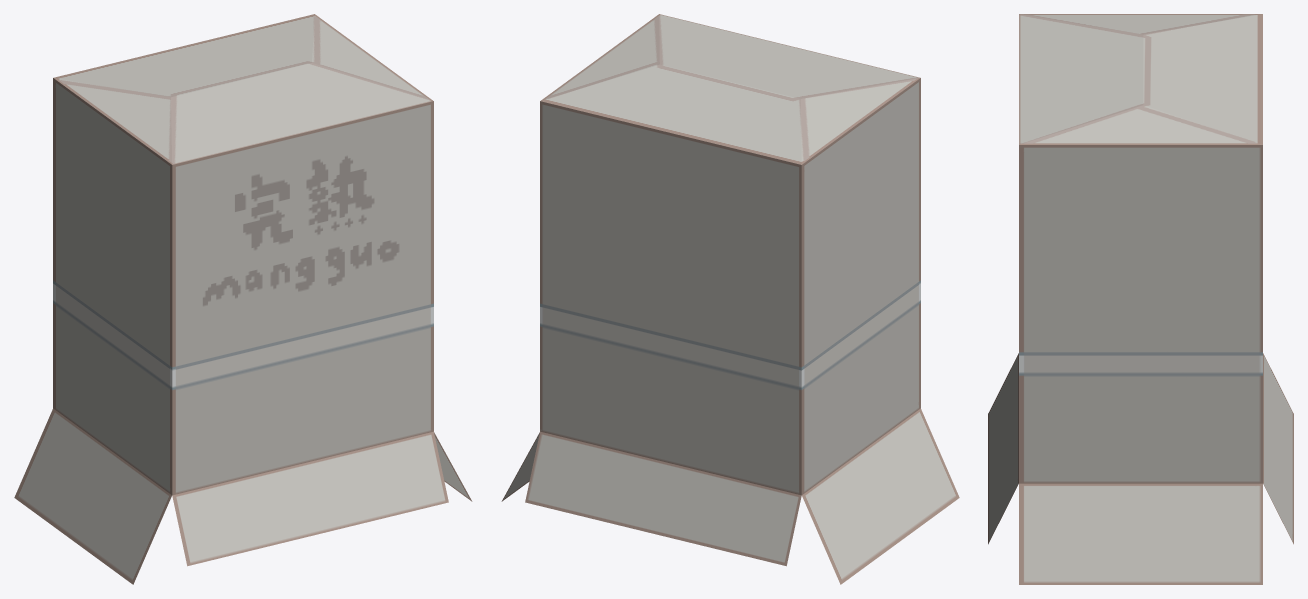
File: props_bigBox.fbx
3 renders of one model, left to right at view 1: azimuth 30°, elevation 25°; view 2: azimuth 150°, elevation 25°; view 3: azimuth 270°, elevation 25°, orthographic. The views are drawn at different scales.
Parts seen in each view (by area): view 1: bigBox; view 2: bigBox; view 3: bigBox.
Boxes of the visible parts, x1,y1,x2,y2 form: bigBox: (14,14,472,584); bigBox: (501,14,959,584); bigBox: (988,14,1293,584).
Bounding box in the file's own units: 1.44 × 1.7 × 1.1.
